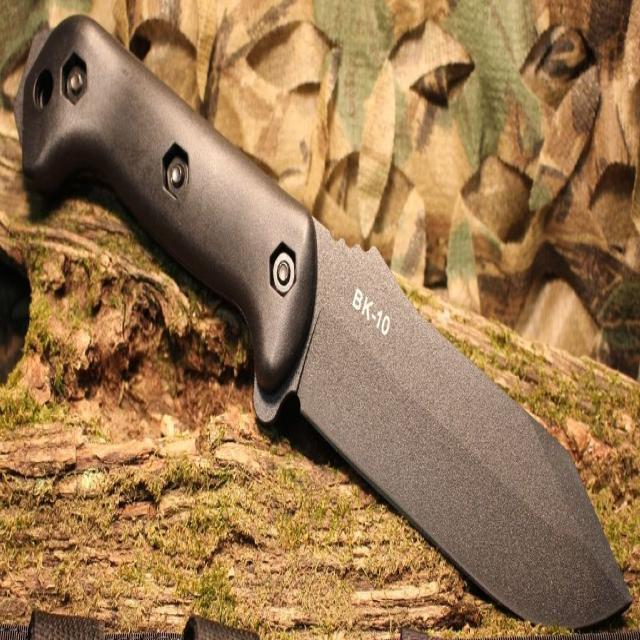Knife: (16, 16, 629, 627)
